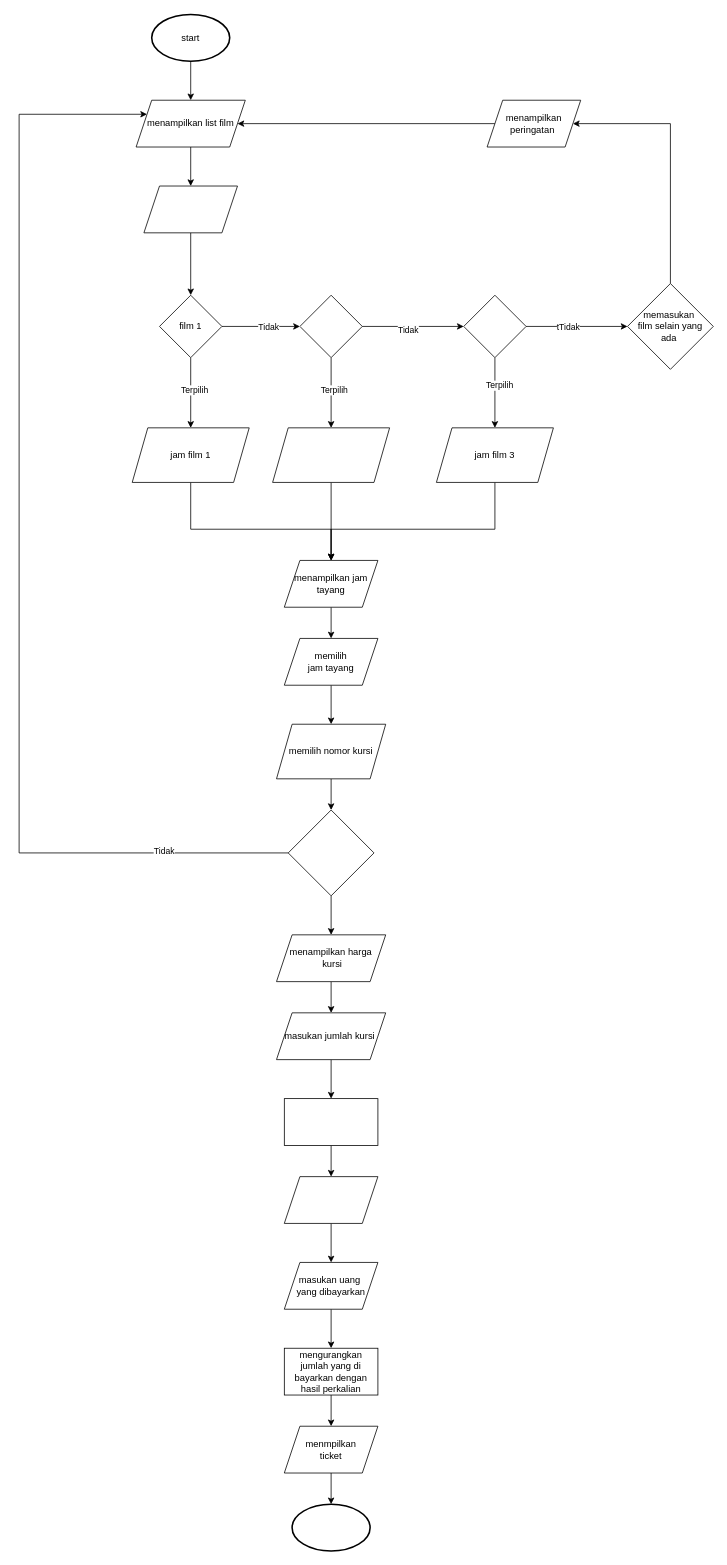
The diagram is 727 pixels wide and 1565 high, and some of its shapes have lost their labels. The shapes that lost their labels are listed below. From the top down, each one's box as (x1, y1, x2, y2) in pixels, then its label:
(143, 185, 238, 233): memilih film
(299, 294, 362, 358): film 2
(463, 294, 526, 358): film 3
(272, 427, 390, 482): jam film 2
(287, 809, 374, 896): apakah pilihan sesuai?(y/t)
(284, 1098, 378, 1145): mengalikan harga tiket dengan jumlah kursi yang dipesan
(284, 1176, 378, 1223): menampilkan total harga
(291, 1503, 370, 1551): end
